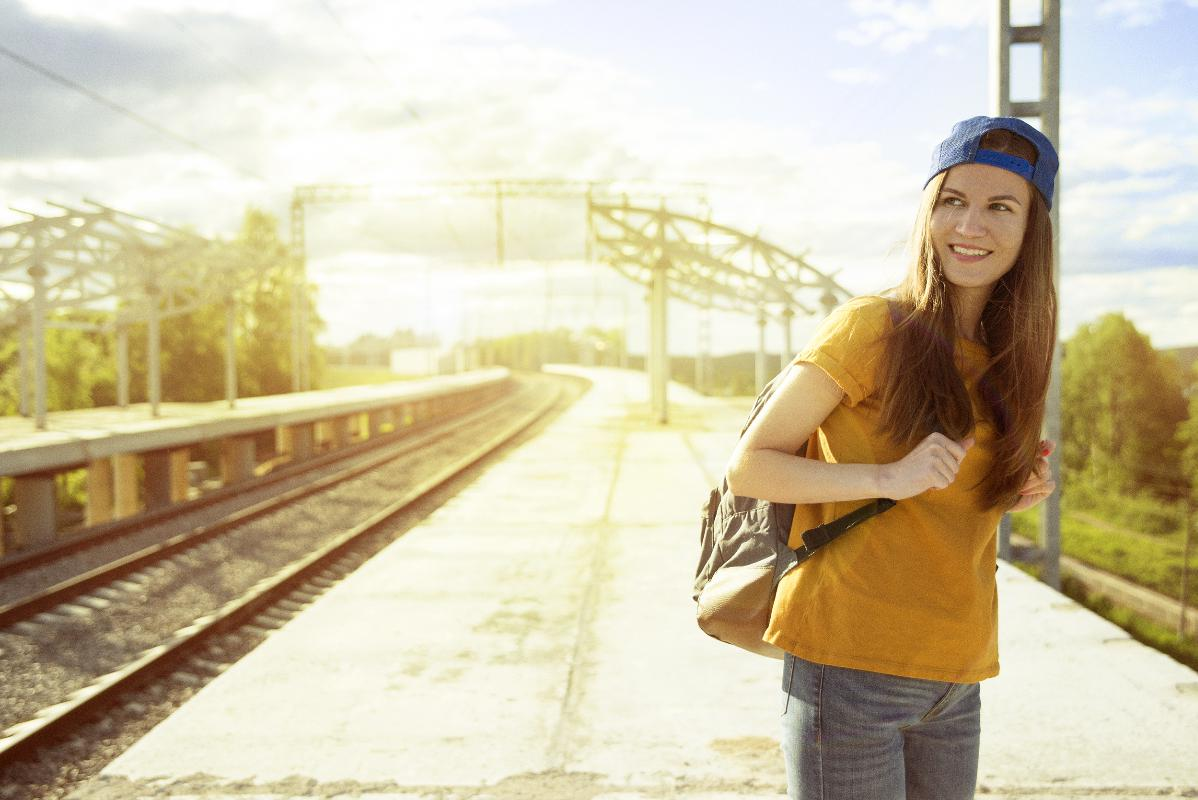Person: (719, 112, 1065, 800)
